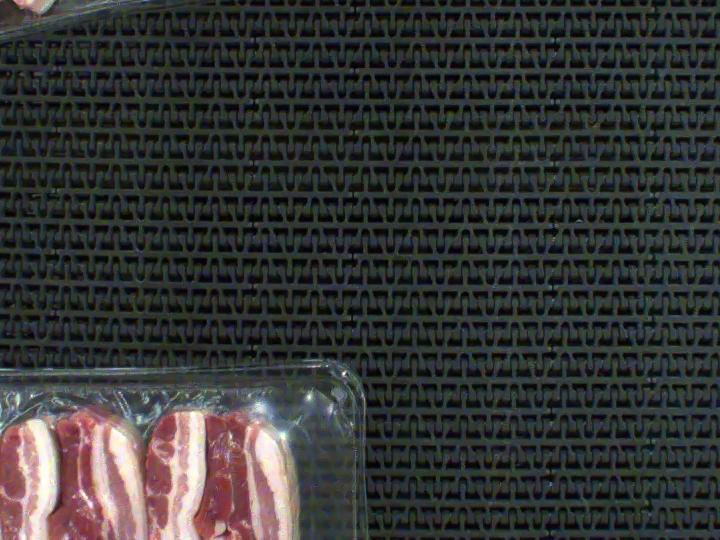unsealed: (0, 382, 343, 540)
